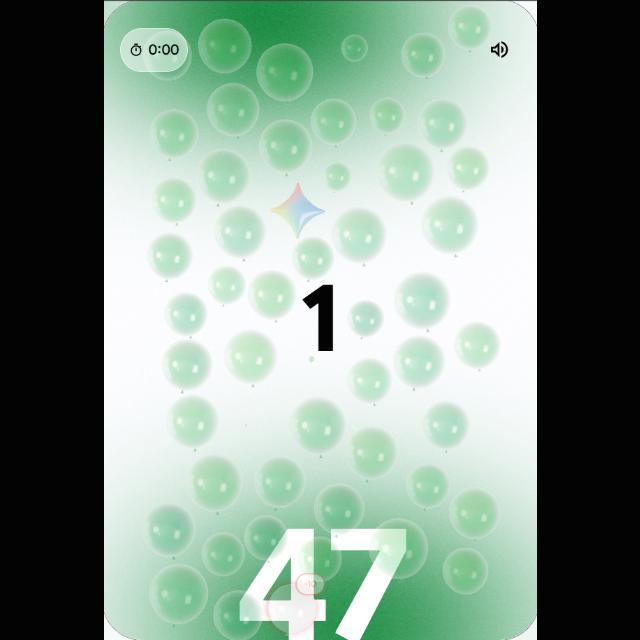gemini: (264, 178, 326, 240)
hazard: (265, 572, 325, 638)
safe: (253, 42, 313, 102), (422, 196, 480, 258), (148, 563, 206, 625), (374, 517, 428, 579), (330, 206, 386, 264), (376, 143, 432, 200), (197, 17, 253, 74), (186, 453, 240, 512), (288, 397, 344, 453), (204, 82, 260, 136), (256, 118, 312, 172), (395, 272, 449, 328), (223, 330, 275, 386), (164, 394, 216, 448), (142, 504, 194, 558), (253, 456, 304, 510), (447, 488, 499, 540), (312, 483, 364, 535), (198, 150, 250, 202), (142, 34, 194, 86), (392, 337, 443, 389), (346, 426, 396, 479), (213, 207, 263, 259), (148, 109, 198, 160), (160, 289, 210, 339), (417, 98, 465, 148), (162, 340, 210, 390), (211, 589, 259, 639), (398, 31, 446, 79), (440, 547, 488, 595), (454, 322, 501, 371), (422, 402, 468, 452), (309, 98, 356, 146), (446, 4, 492, 52), (248, 271, 294, 319), (404, 463, 450, 509), (146, 232, 190, 280), (346, 358, 390, 406), (200, 532, 246, 576), (297, 538, 341, 582), (244, 516, 286, 562), (446, 146, 488, 190), (290, 236, 334, 278), (152, 178, 194, 222), (368, 96, 406, 134), (208, 266, 245, 304), (346, 300, 382, 338), (338, 32, 372, 68), (323, 162, 349, 192)
